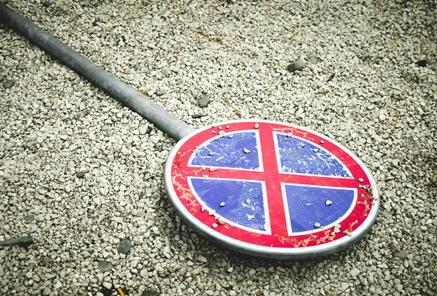obstructed_road_sign: (165, 121, 377, 258)
